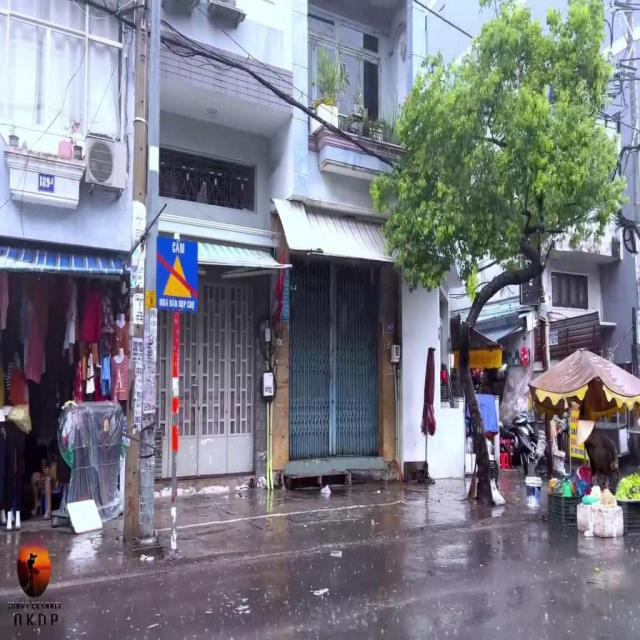khac: (156, 236, 198, 312)
